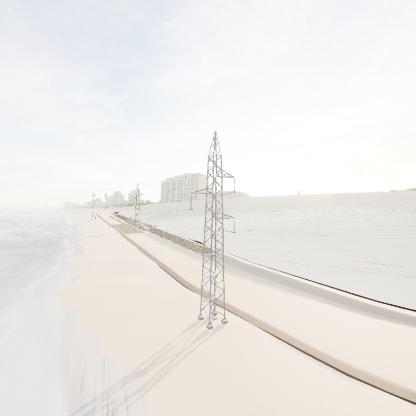tower: (183, 128, 241, 330)
